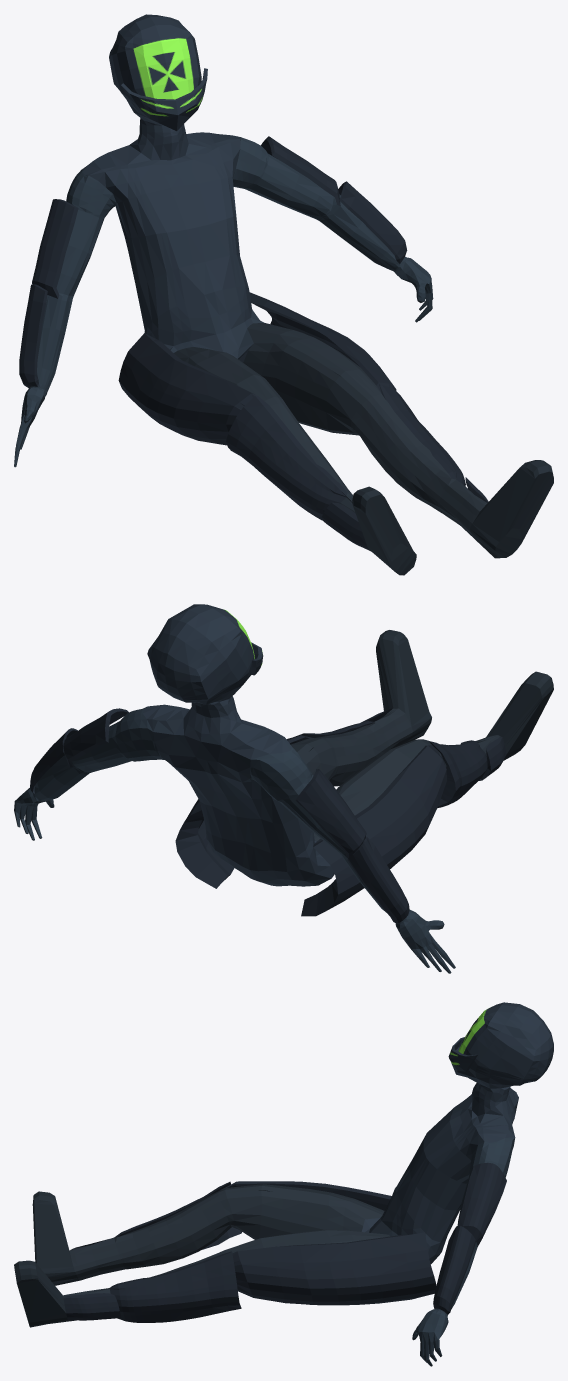
Rendered from Bastion_Die_000007.obj.
3 renders of one model, top to bottom at view 1: azimuth 30°, elevation 25°; view 2: azimuth 150°, elevation 25°; view 3: azimuth 270°, elevation 25°, orthographic. The views are drawn at different scales.
Visible parts, largest first — view 1: Cube.002; view 2: Cube.002; view 3: Cube.002.
Boxes of the visible parts, x1=… form: Cube.002: x1=14, y1=14, x2=553, y2=575; Cube.002: x1=14, y1=604, x2=553, y2=973; Cube.002: x1=14, y1=1002, x2=553, y2=1366.
Bounding box in the file's own units: 2.45 × 1.95 × 3.15.
